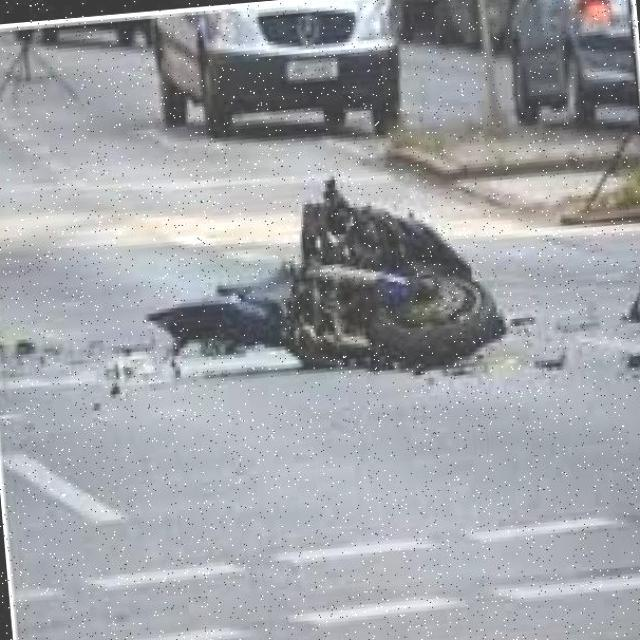accident: (167, 141, 525, 439)
